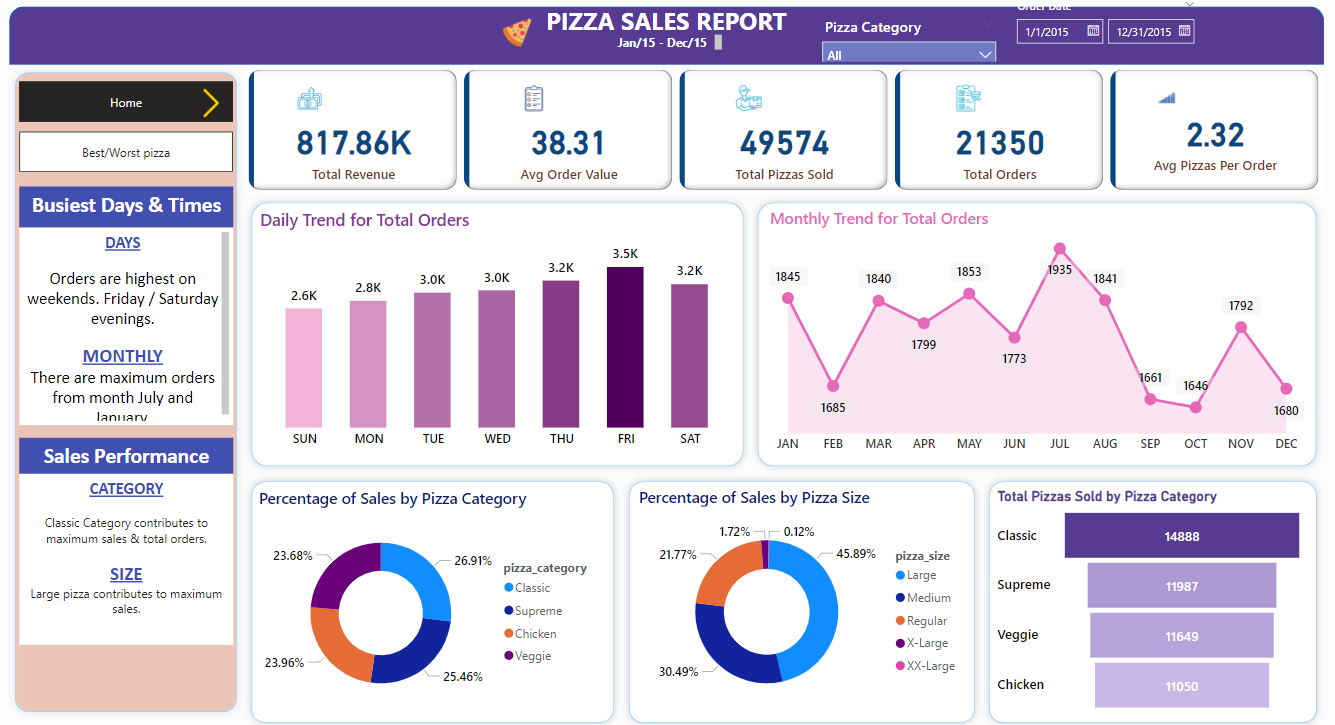

The page's visual inventory and layout, read from the dashboard file:
{"tool":"powerbi","page":{"name":"Home","canvas":[1500,820],"ordinal":0},"visuals":[{"type":"shape","box":[17.1,80,262.9,728.6],"z":0},{"type":"cardVisual","fields":{"Data":["pizza_sales.Total Revenue","pizza_sales.Avg Order Value","pizza_sales.Total Pizzas Sold","pizza_sales.Total Orders","pizza_sales.Avg Pizzas Per Order"]},"box":[280,80,1202.9,144.3],"z":1000},{"type":"shape","box":[17.5,13.8,1465,65],"z":2000},{"type":"textbox","box":[605.7,7.1,288.6,47.1],"z":3000},{"type":"textbox","box":[682.9,40,134.3,27.1],"z":4000},{"type":"image","box":[562.9,20,42.9,47.1],"z":5000},{"type":"shape","box":[280,224.3,564.3,310],"z":6000},{"type":"columnChart","title":"Daily Trend for Total Orders","fields":{"Category":["pizza_sales.Order Day"],"Y":["pizza_sales.Total Orders"]},"box":[292.9,238.6,540,277.1],"z":7000},{"type":"shape","box":[844.3,224.3,638.6,310],"z":8000},{"type":"areaChart","title":"Monthly Trend for Total Orders","fields":{"Category":["pizza_sales.Order Month"],"Y":["pizza_sales.Total Orders"]},"box":[860,238.6,605.7,282.9],"z":9000},{"type":"shape","box":[280,534.3,420,285.7],"z":10000},{"type":"shape","box":[700,534.3,401.4,285.7],"z":11000},{"type":"shape","box":[1101.4,534.3,381.4,285.7],"z":12000},{"type":"donutChart","title":"Percentage of Sales by Pizza Category","fields":{"Category":["pizza_sales.pizza_category"],"Y":["pizza_sales.Total Revenue"]},"box":[291.4,550,391.4,257.1],"z":13000},{"type":"donutChart","title":"Percentage of Sales by Pizza Size","fields":{"Category":["pizza_sales.pizza_size"],"Y":["pizza_sales.Total Revenue"]},"box":[714.3,548.6,375.7,257.1],"z":14000},{"type":"funnel","title":"Total Pizzas Sold by Pizza Category","fields":{"Category":["pizza_sales.pizza_category"],"Y":["pizza_sales.Total Pizzas Sold"]},"box":[1114.3,550,351.4,255.7],"z":15000},{"type":"textbox","box":[28.6,214.3,238.6,45.7],"z":16000},{"type":"textbox","box":[28.6,260,238.6,220],"z":17000},{"type":"textbox","box":[28.6,494.3,238.6,40],"z":18000},{"type":"textbox","box":[28.6,534.3,238.6,190],"z":19000},{"type":"slicer","fields":{"Values":["pizza_sales.pizza_category"]},"box":[914.3,20,214.3,55.7],"z":20000},{"type":"slicer","fields":{"Values":["pizza_sales.order_date"]},"box":[1128.6,0,222.9,75.7],"z":21000},{"type":"pageNavigator","box":[28.6,97.1,238.6,45.7],"z":22000},{"type":"pageNavigator","box":[28.6,152.9,238.6,45.7],"z":23000},{"type":"image","box":[218.6,100,48.6,42.9],"z":24000}]}

Visuals, with their boxes in screenshot pixels (x1, y1, x2, y2), scaled from the page's 1500x820 canvas onto the 1335x725 screenshot:
shape: 15:71:249:715
cardVisual - pizza_sales.Total Revenue x pizza_sales.Avg Order Value: 249:71:1320:198
shape: 16:12:1319:70
textbox: 539:6:796:48
textbox: 608:35:727:59
image: 501:18:539:59
shape: 249:198:751:472
"Daily Trend for Total Orders" columnChart: 261:211:741:456
shape: 751:198:1320:472
"Monthly Trend for Total Orders" areaChart: 765:211:1304:461
shape: 249:472:623:724
shape: 623:472:980:724
shape: 980:472:1320:724
"Percentage of Sales by Pizza Category" donutChart: 259:486:608:714
"Percentage of Sales by Pizza Size" donutChart: 636:485:970:712
"Total Pizzas Sold by Pizza Category" funnel: 992:486:1304:712
textbox: 25:189:238:230
textbox: 25:230:238:424
textbox: 25:437:238:472
textbox: 25:472:238:640
slicer - pizza_sales.pizza_category: 814:18:1004:67
slicer - pizza_sales.order_date: 1004:0:1203:67
pageNavigator: 25:86:238:126
pageNavigator: 25:135:238:176
image: 195:88:238:126
